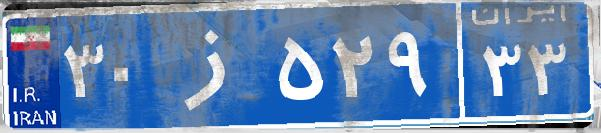0: (110, 28, 158, 105)
2: (330, 28, 385, 110)
3: (57, 26, 110, 107), (475, 38, 525, 113), (525, 38, 570, 115)
5: (273, 28, 330, 110)
9: (385, 28, 445, 110)
ز: (158, 15, 273, 115)
